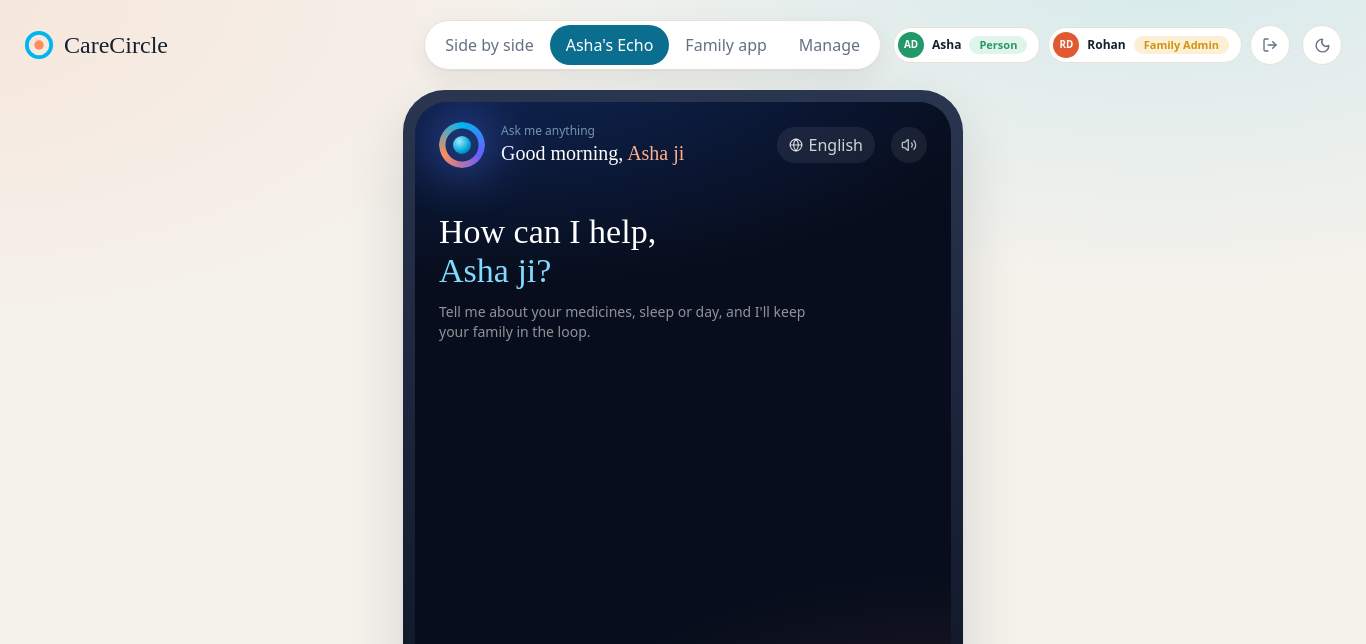
app shell, sessions and views per role › signing out clears the stored tokens
Click the button named "sign out": point(1270, 45) [1250,25,1290,65]
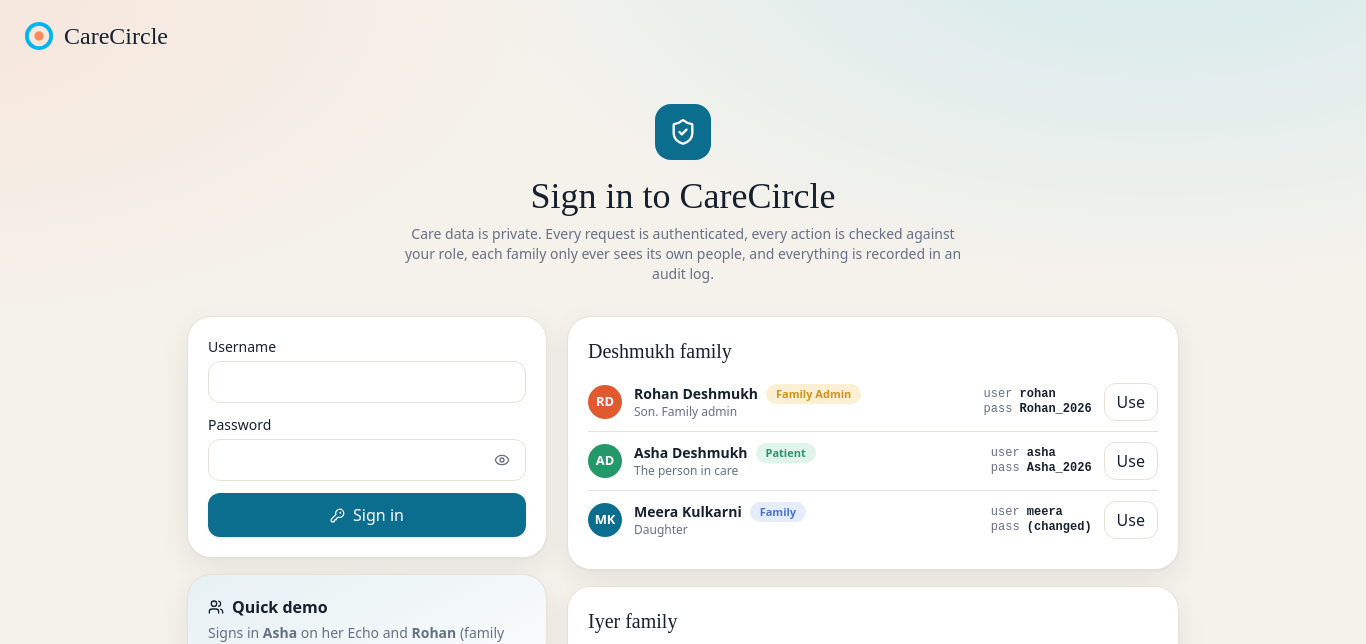
Now the heading "Sign in to CareCircle" is shown, box [530,176,836,216]
